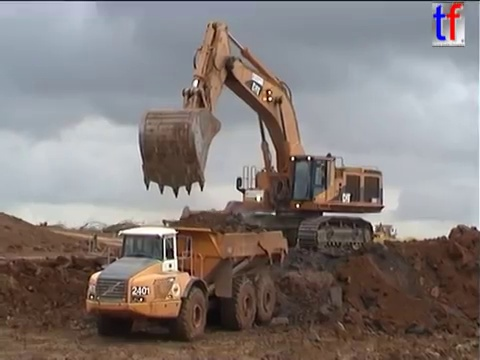excavator: (134, 19, 388, 259)
motor grader: (366, 221, 399, 247)
truck: (83, 223, 291, 342), (180, 198, 275, 242)
